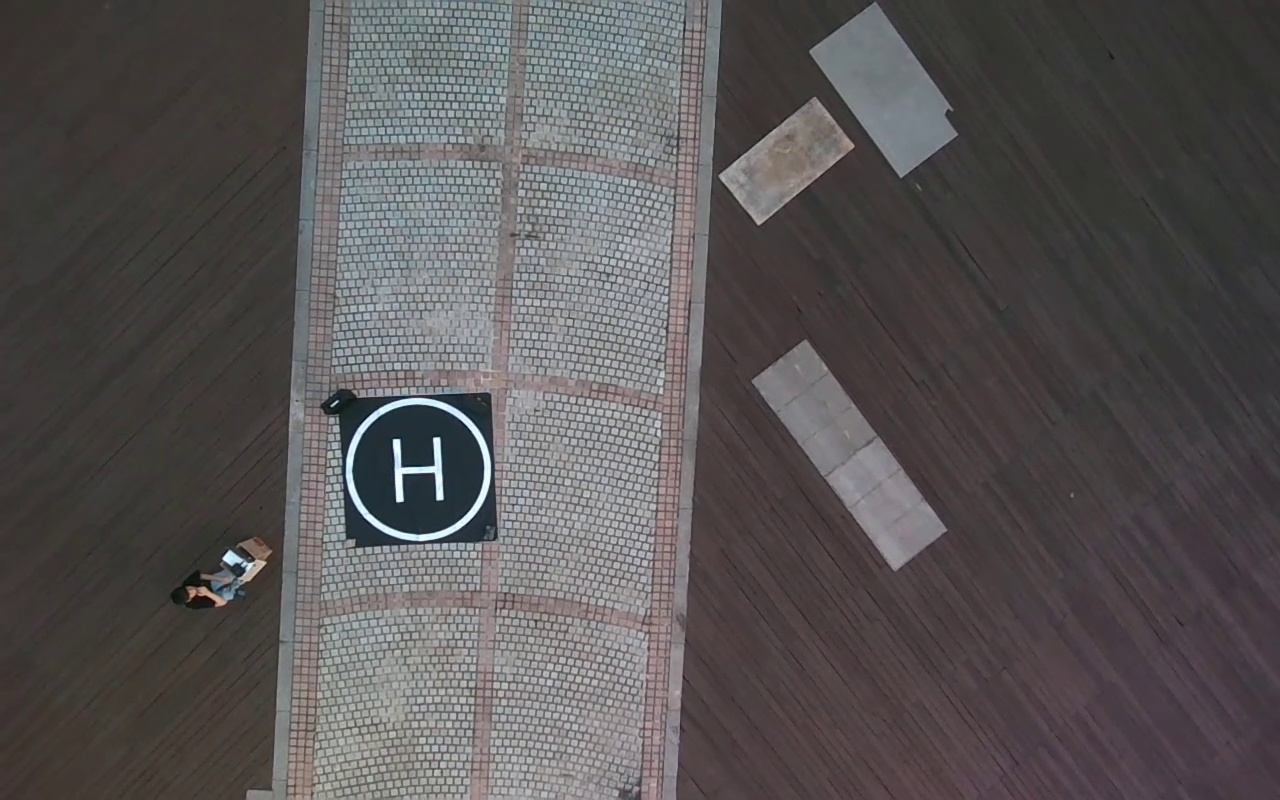H: (391, 434, 445, 502)
heliport: (345, 397, 493, 538)
